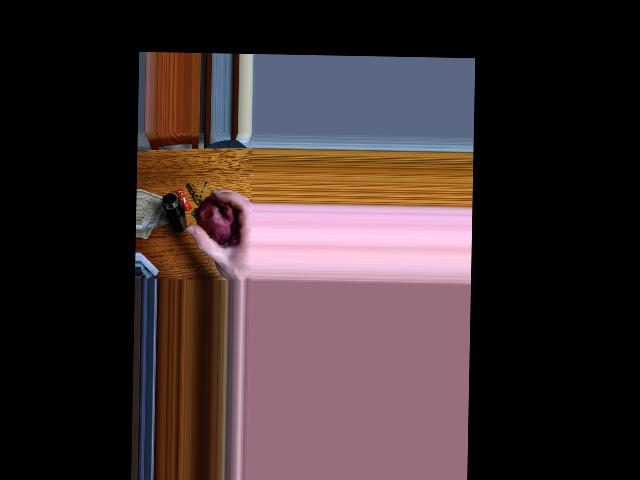onion: (201, 197, 232, 235)
